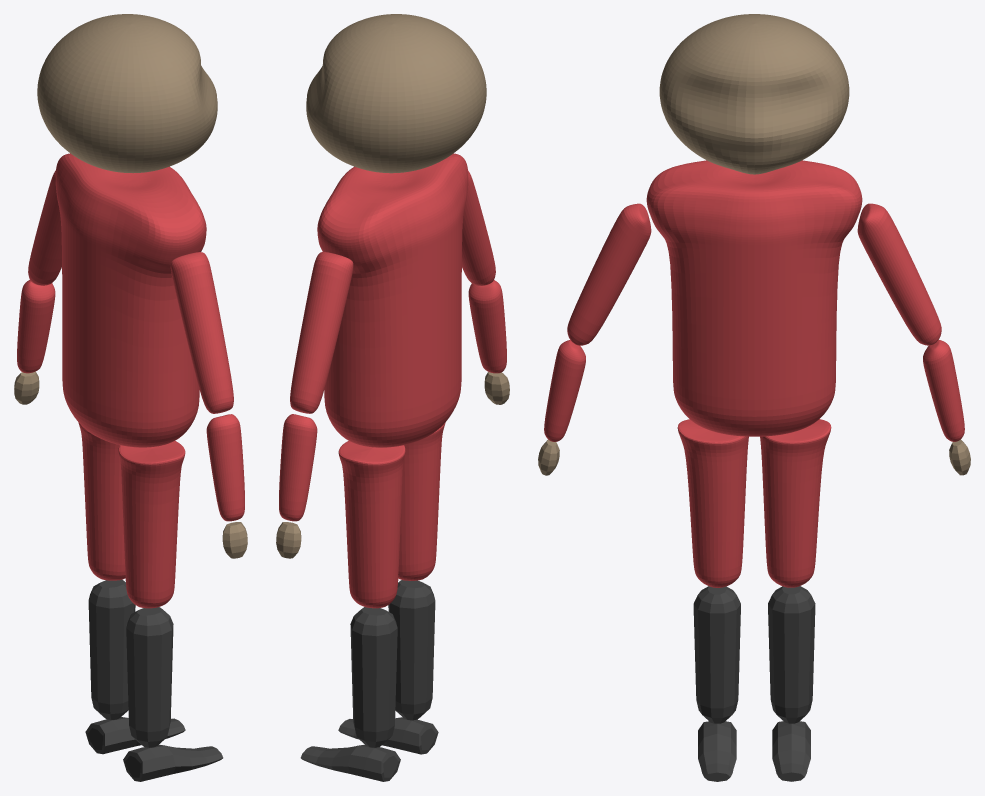
The model's file is Character_Enemy.fbx.
3 renders of one model, left to right at view 1: azimuth 30°, elevation 25°; view 2: azimuth 150°, elevation 25°; view 3: azimuth 270°, elevation 25°, orthographic.
Visible parts, largest first — view 1: Torso, Head, Right Upper Leg, Right Upper Arm, Right Lower Leg, Left Upper Leg, Left Lower Leg, Right Lower Arm, Left Lower Arm, Right Foot, Left Upper Arm, Left Foot (+2 smaller); view 2: Torso, Head, Left Upper Leg, Left Upper Arm, Left Lower Leg, Right Upper Leg, Right Lower Leg, Left Lower Arm, Right Lower Arm, Left Foot, Right Upper Arm, Right Foot (+2 smaller); view 3: Torso, Head, Right Upper Leg, Left Upper Leg, Right Lower Leg, Left Lower Leg, Right Upper Arm, Left Upper Arm, Right Lower Arm, Left Lower Arm, Right Foot, Left Foot.
Boxes of the visible parts, bbox=[...] form: Torso: bbox=[55, 153, 206, 447]; Head: bbox=[37, 14, 217, 173]; Right Upper Leg: bbox=[118, 441, 185, 608]; Right Upper Arm: bbox=[170, 252, 233, 413]; Right Lower Leg: bbox=[126, 607, 173, 747]; Left Upper Leg: bbox=[78, 422, 125, 580]; Left Lower Leg: bbox=[88, 579, 135, 719]; Right Lower Arm: bbox=[206, 414, 244, 521]; Left Lower Arm: bbox=[17, 280, 55, 373]; Right Foot: bbox=[123, 744, 223, 781]; Left Upper Arm: bbox=[28, 170, 61, 285]; Left Foot: bbox=[85, 717, 185, 754]; Torso: bbox=[317, 153, 468, 447]; Head: bbox=[306, 14, 486, 173]; Left Upper Leg: bbox=[338, 441, 405, 608]; Left Upper Arm: bbox=[290, 252, 353, 413]; Left Lower Leg: bbox=[350, 607, 397, 747]; Right Upper Leg: bbox=[398, 422, 445, 580]; Right Lower Leg: bbox=[388, 580, 435, 720]; Left Lower Arm: bbox=[279, 414, 317, 521]; Right Lower Arm: bbox=[468, 280, 506, 373]; Left Foot: bbox=[300, 744, 400, 781]; Right Upper Arm: bbox=[462, 170, 495, 285]; Right Foot: bbox=[338, 717, 438, 754]; Torso: bbox=[646, 160, 862, 436]; Head: bbox=[659, 14, 849, 174]; Right Upper Leg: bbox=[677, 419, 748, 587]; Left Upper Leg: bbox=[760, 419, 831, 587]; Right Lower Leg: bbox=[693, 586, 740, 723]; Left Lower Leg: bbox=[768, 586, 815, 723]; Right Upper Arm: bbox=[567, 203, 651, 345]; Left Upper Arm: bbox=[857, 203, 941, 345]; Right Lower Arm: bbox=[544, 340, 585, 441]; Left Lower Arm: bbox=[923, 340, 964, 441]; Right Foot: bbox=[698, 721, 736, 781]; Left Foot: bbox=[772, 721, 810, 781].
Size of the model in its own units: 120 by 532 by 286.
